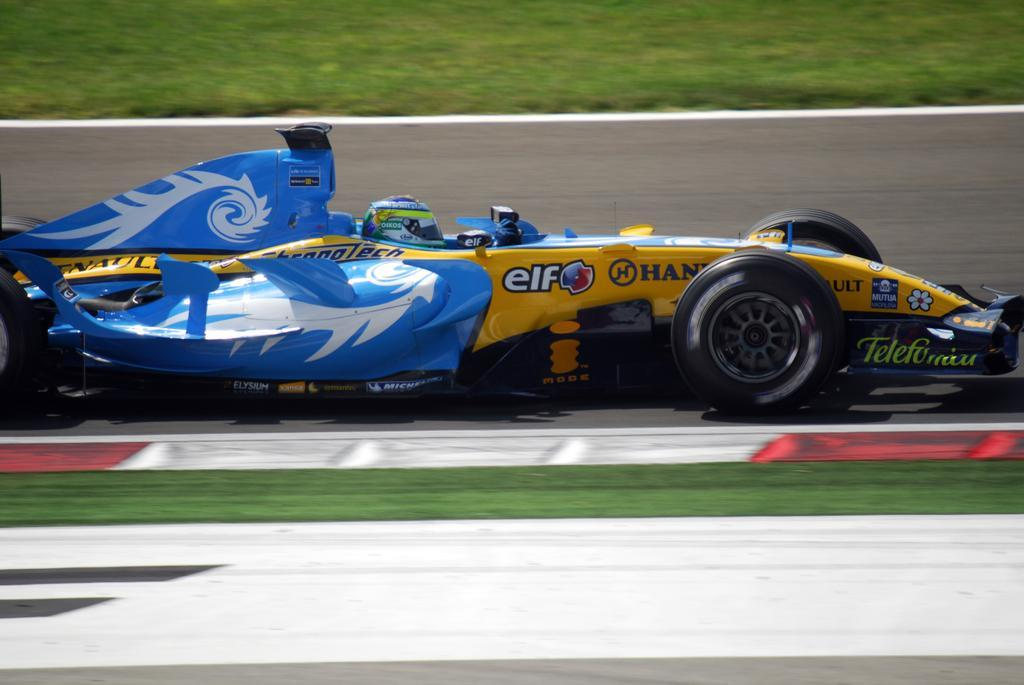helmet: (361, 194, 449, 252)
